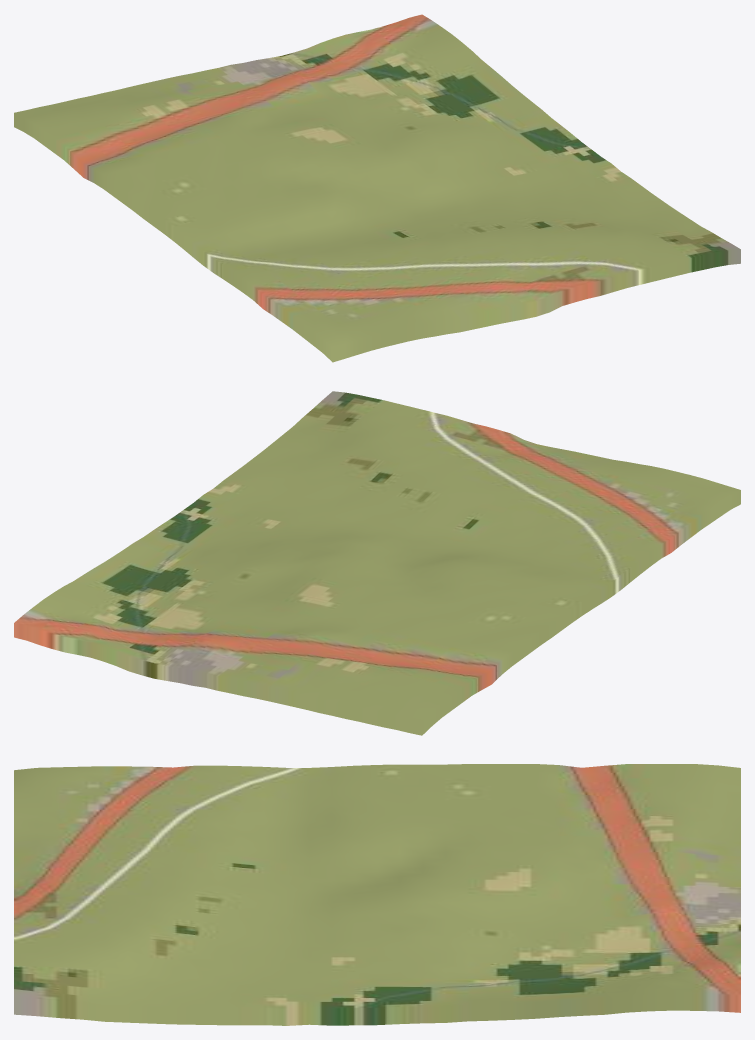
3 renders of one model, top to bottom at view 1: azimuth 30°, elevation 25°; view 2: azimuth 150°, elevation 25°; view 3: azimuth 270°, elevation 25°, orthographic. The views are drawn at different scales.
Size of the model in its own units: 902 by 65.11 by 1221.
Materials: 1 (1 with a texture image).
